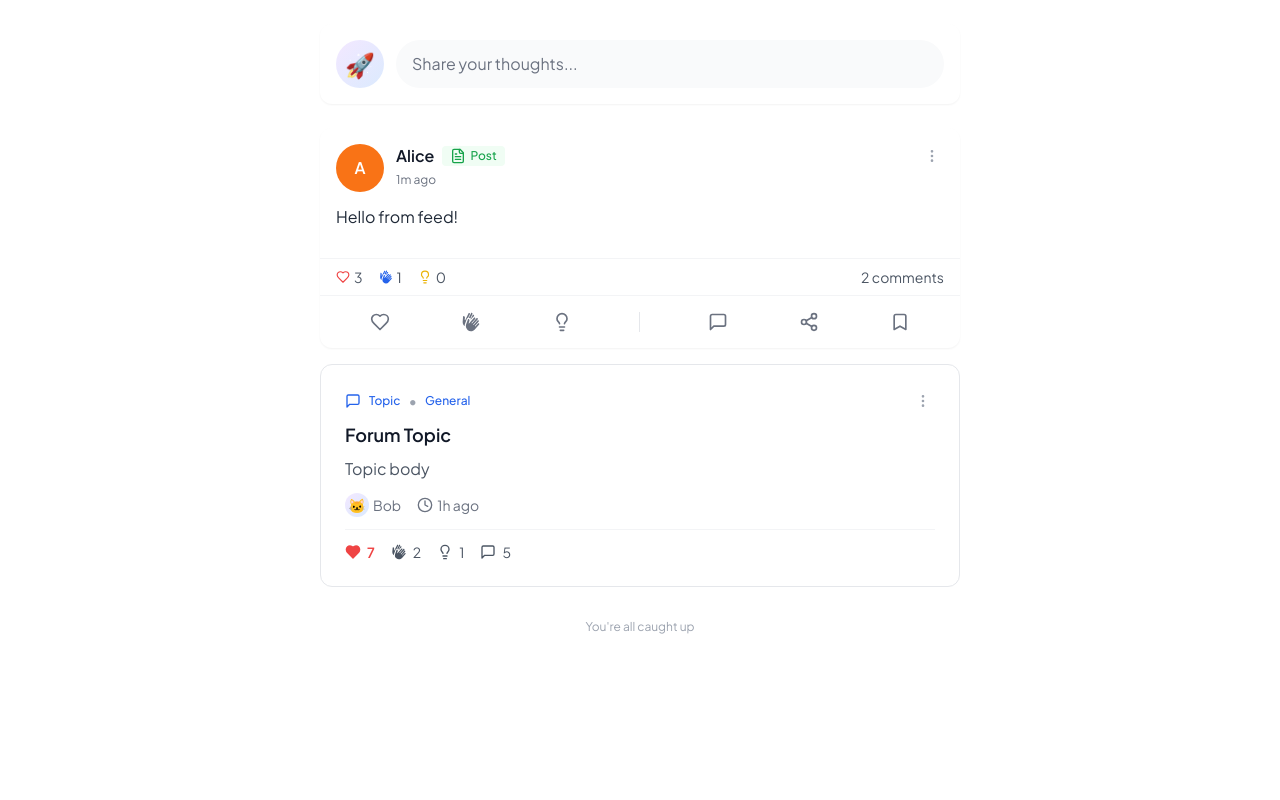
Test case: FeedsView › closes create post modal when close button is clicked
Later steps or results of the test are not shown.
Expected: the text "Hello from feed!" is shown, [336,206,458,227]
Click the button "Share your thoughts..." at (495, 64), box [396,40,944,88]
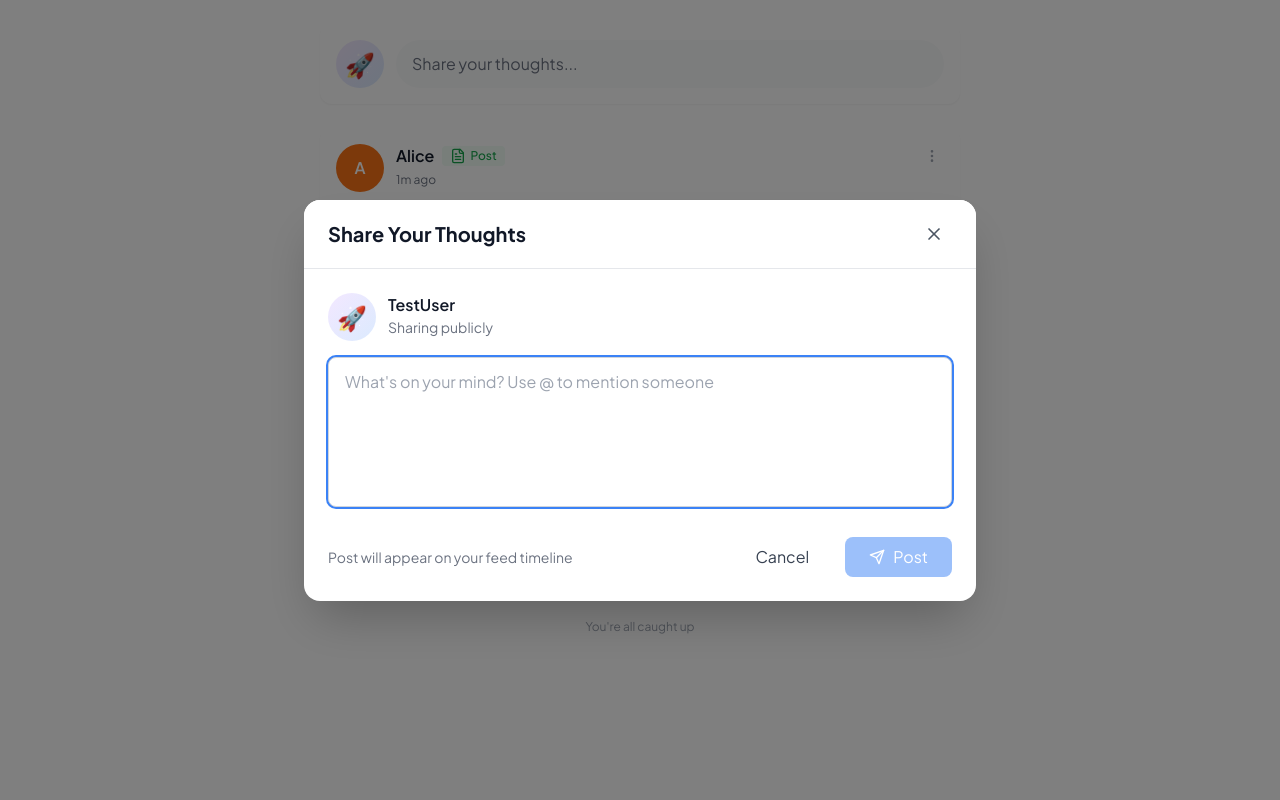
Result: the heading "Share Your Thoughts" is shown at [328,220,526,248]
